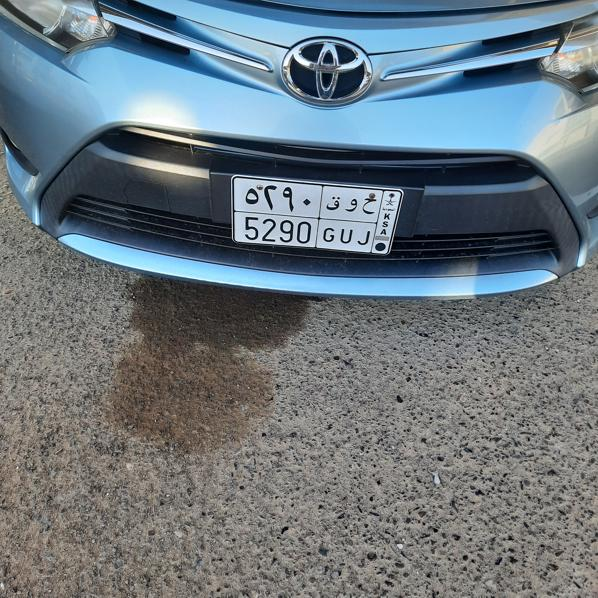numberplate: (234, 177, 401, 258)
